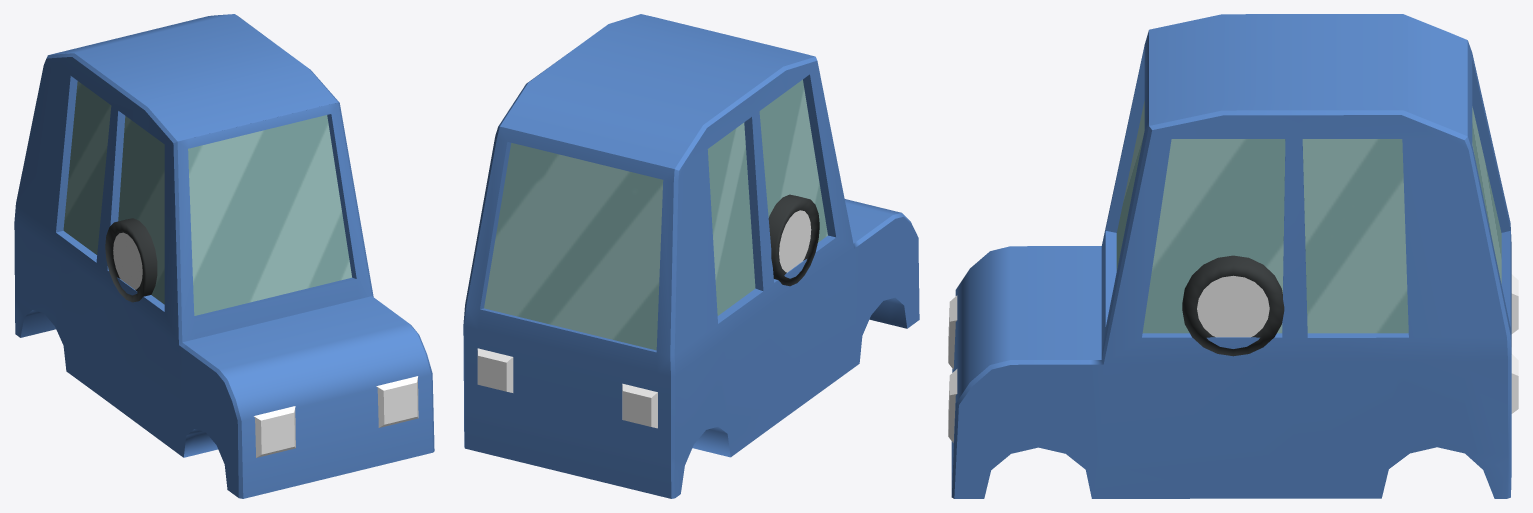
The model's file is car_1_B.fbx.
3 views of the same model, side by side, from view 1: azimuth 30°, elevation 25°; view 2: azimuth 150°, elevation 25°; view 3: azimuth 270°, elevation 25° (orthographic). The views are drawn at different scales.
Visible parts, largest first — view 1: car_1_chasis_B, car_1_right_wheel_B, car_1_back_wheel_B; view 2: car_1_chasis_B, car_1_right_wheel_B, car_1_back_wheel_B; view 3: car_1_chasis_B, car_1_back_wheel_B.
Part boxes in pixels (x1,y1,x2,y2): car_1_chasis_B: (14, 14, 434, 498); car_1_right_wheel_B: (105, 219, 157, 302); car_1_back_wheel_B: (117, 218, 156, 301); car_1_chasis_B: (463, 14, 919, 498); car_1_right_wheel_B: (769, 194, 819, 286); car_1_back_wheel_B: (768, 195, 797, 276); car_1_chasis_B: (948, 14, 1518, 498); car_1_back_wheel_B: (1182, 255, 1284, 356).
Size of the model in its own units: 76.29 by 115 by 157.
